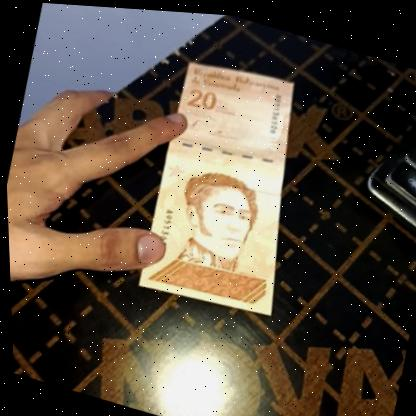vef_front: (129, 49, 321, 323)
